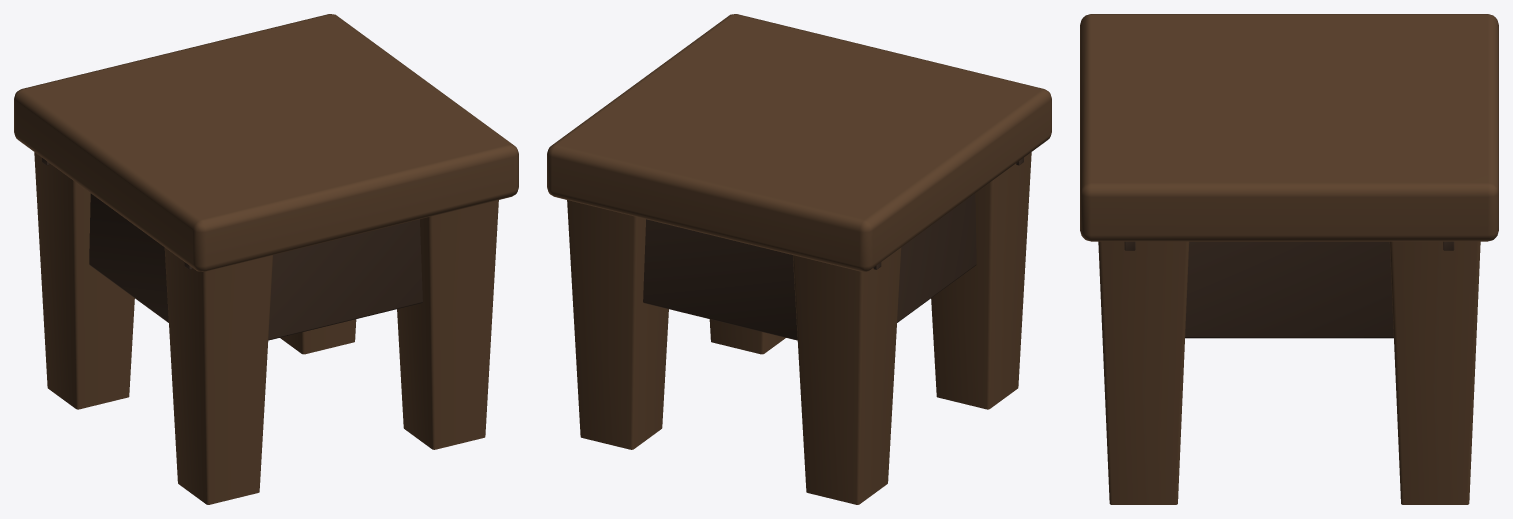
Rendered from kominka-hanadai-01.glb.
3 renders of one model, left to right at view 1: azimuth 30°, elevation 25°; view 2: azimuth 150°, elevation 25°; view 3: azimuth 270°, elevation 25°, orthographic. The views are drawn at different scales.
Parts seen in each view (by area): view 1: kominka-hanadai-01; view 2: kominka-hanadai-01; view 3: kominka-hanadai-01.
Boxes of the visible parts, x1,y1,x2,y2 form: kominka-hanadai-01: (14, 14, 518, 504); kominka-hanadai-01: (547, 14, 1051, 504); kominka-hanadai-01: (1080, 14, 1498, 504).
Size of the model in its own units: 0.46 by 0.4 by 0.46.
